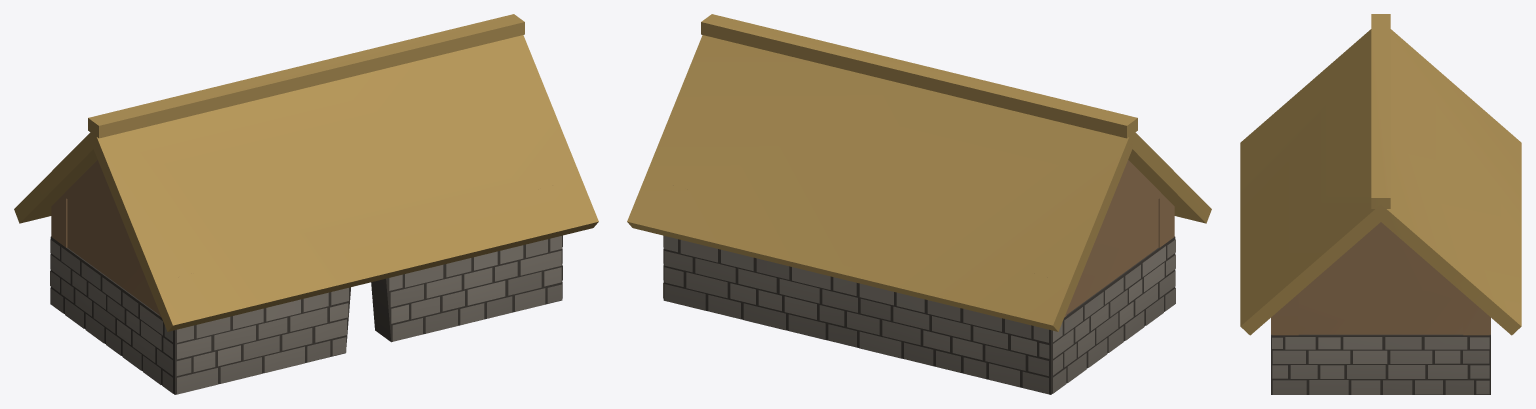
File: cusco_wasi_lod1.glb
3 renders of one model, left to right at view 1: azimuth 30°, elevation 25°; view 2: azimuth 150°, elevation 25°; view 3: azimuth 270°, elevation 25°, orthographic. The views are drawn at different scales.
Visible parts, largest first — view 1: GEO-Arch_cusco_wasi_LOD1; view 2: GEO-Arch_cusco_wasi_LOD1; view 3: GEO-Arch_cusco_wasi_LOD1.
Boxes of the visible parts, x1=… form: GEO-Arch_cusco_wasi_LOD1: x1=14, y1=14, x2=598, y2=394; GEO-Arch_cusco_wasi_LOD1: x1=627, y1=14, x2=1211, y2=394; GEO-Arch_cusco_wasi_LOD1: x1=1240, y1=14, x2=1521, y2=394.
Size of the model in its own units: 9.9 by 5.16 by 6.4.
